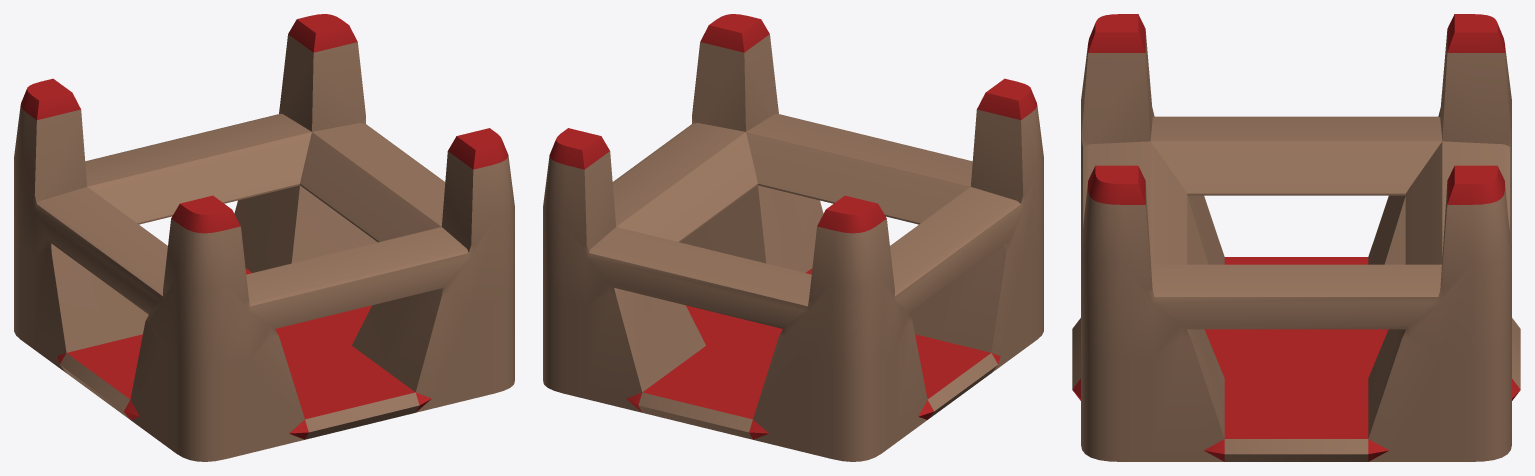
Rendered from Temple 8.fbx.
3 renders of one model, left to right at view 1: azimuth 30°, elevation 25°; view 2: azimuth 150°, elevation 25°; view 3: azimuth 270°, elevation 25°, orthographic. The views are drawn at different scales.
Visible parts, largest first — view 1: Temple 8; view 2: Temple 8; view 3: Temple 8.
Part boxes in pixels (bbox=[...]): Temple 8: bbox=[14, 14, 514, 461]; Temple 8: bbox=[543, 14, 1043, 461]; Temple 8: bbox=[1072, 14, 1520, 461].
Size of the model in its own units: 62.44 by 41.76 by 62.44.
2 materials, 2 textured.
